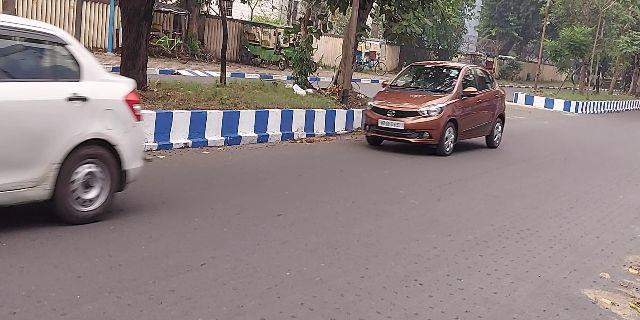Car: (1, 7, 150, 226), (361, 65, 513, 151)
